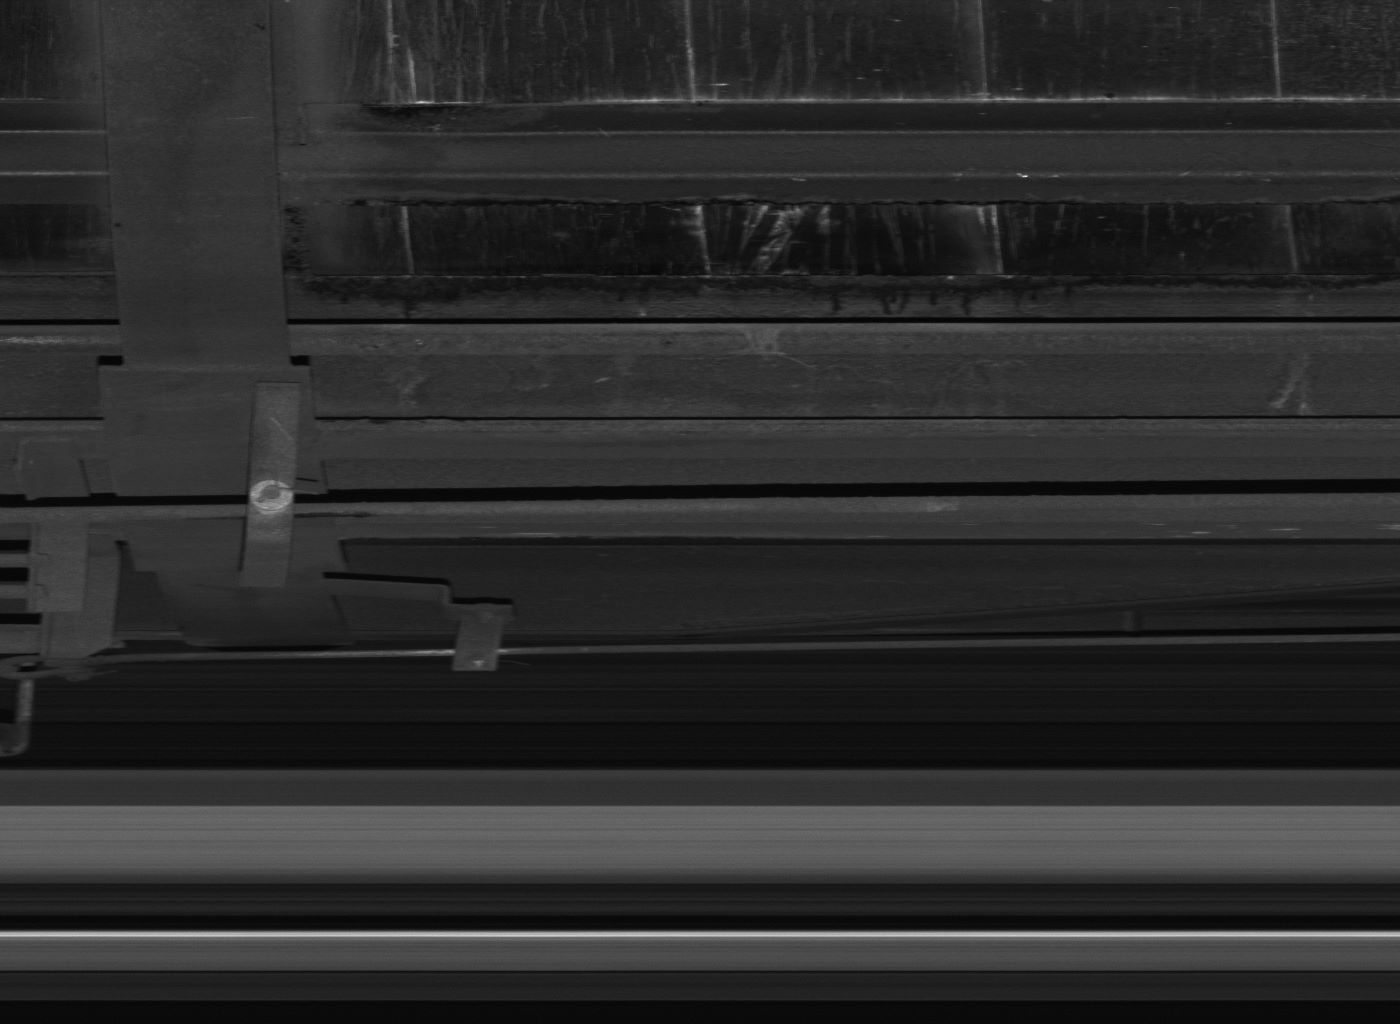normal: (242, 378, 298, 588), (449, 617, 505, 671)
